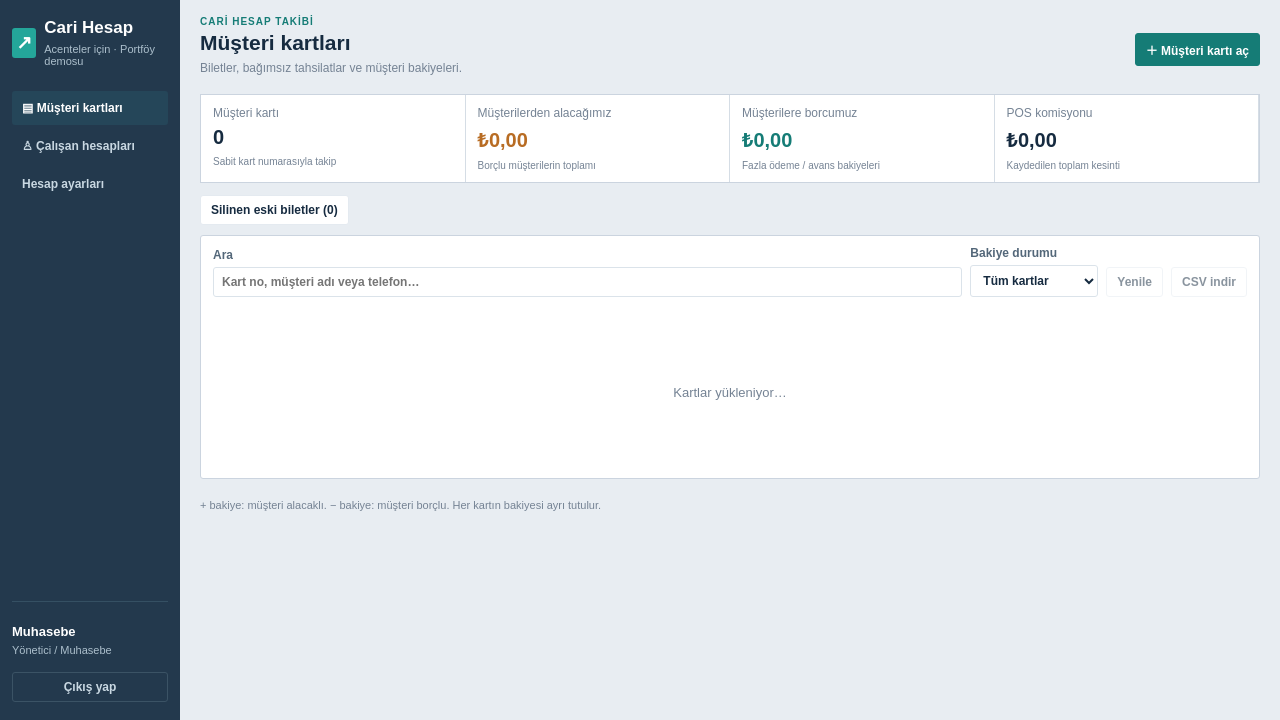
it: account settings require matching passwords and return to login on success
The width and height of the screenshot is (1280, 720).
Click the button "Hesap ayarları" at [90, 184], box [12, 167, 168, 201]
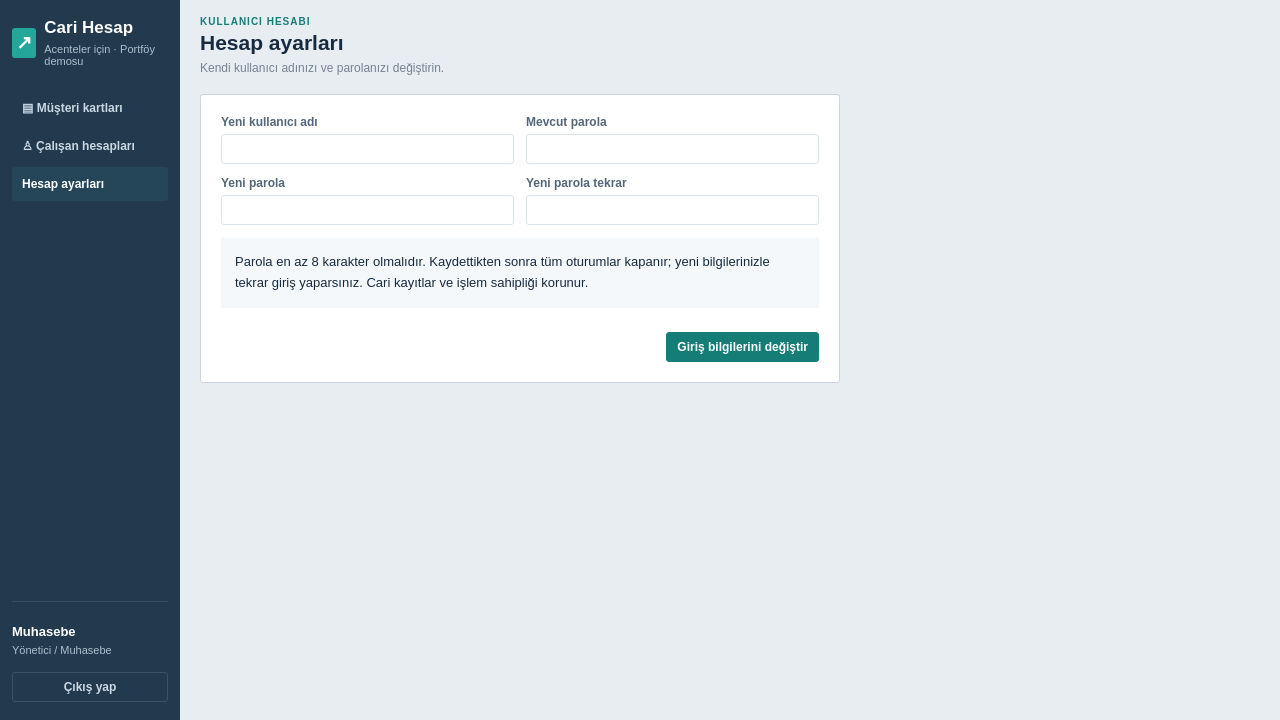
Type "admin" into the field labelled "Yeni kullanıcı adı" at [368, 149], box [221, 134, 514, 164]
Type "old-test-password" into the password field labelled "Mevcut parola" at [672, 149], box [526, 134, 819, 164]
Type "new-test-8" into the password field labelled "Yeni parola" at [368, 210], box [221, 195, 514, 225]
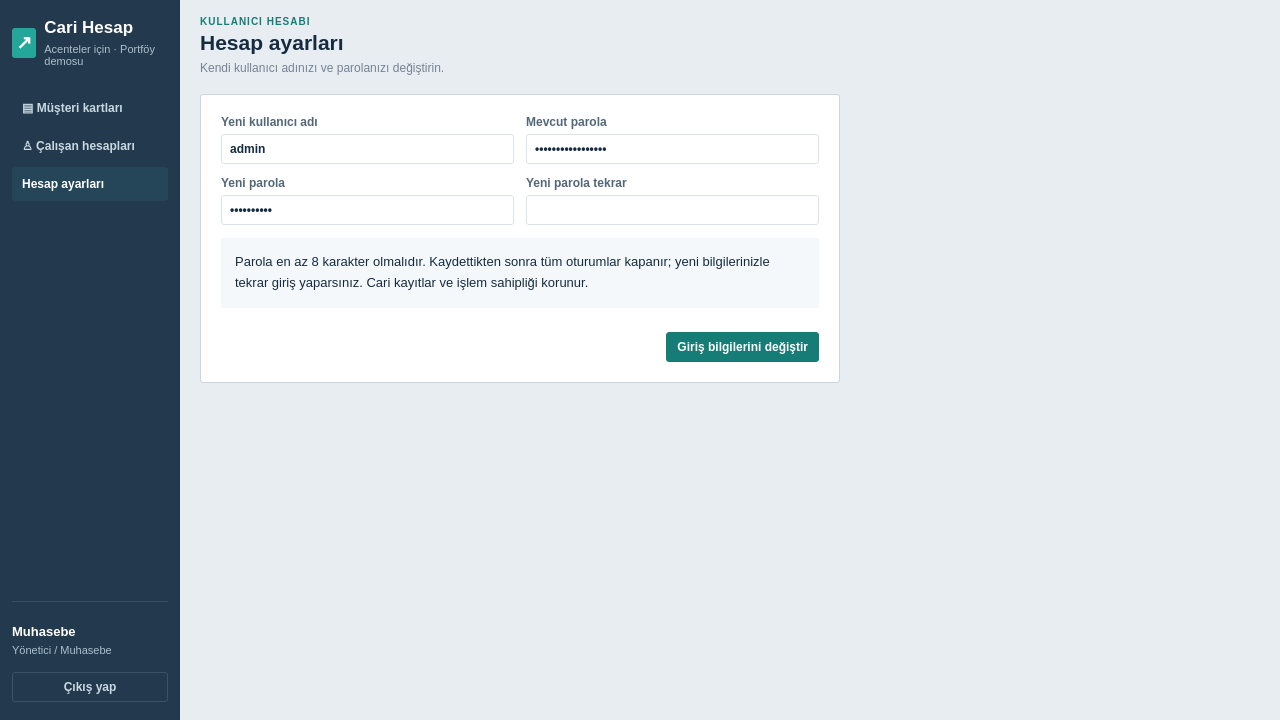
Type "different-8" into the password field labelled "Yeni parola tekrar" at [672, 210], box [526, 195, 819, 225]
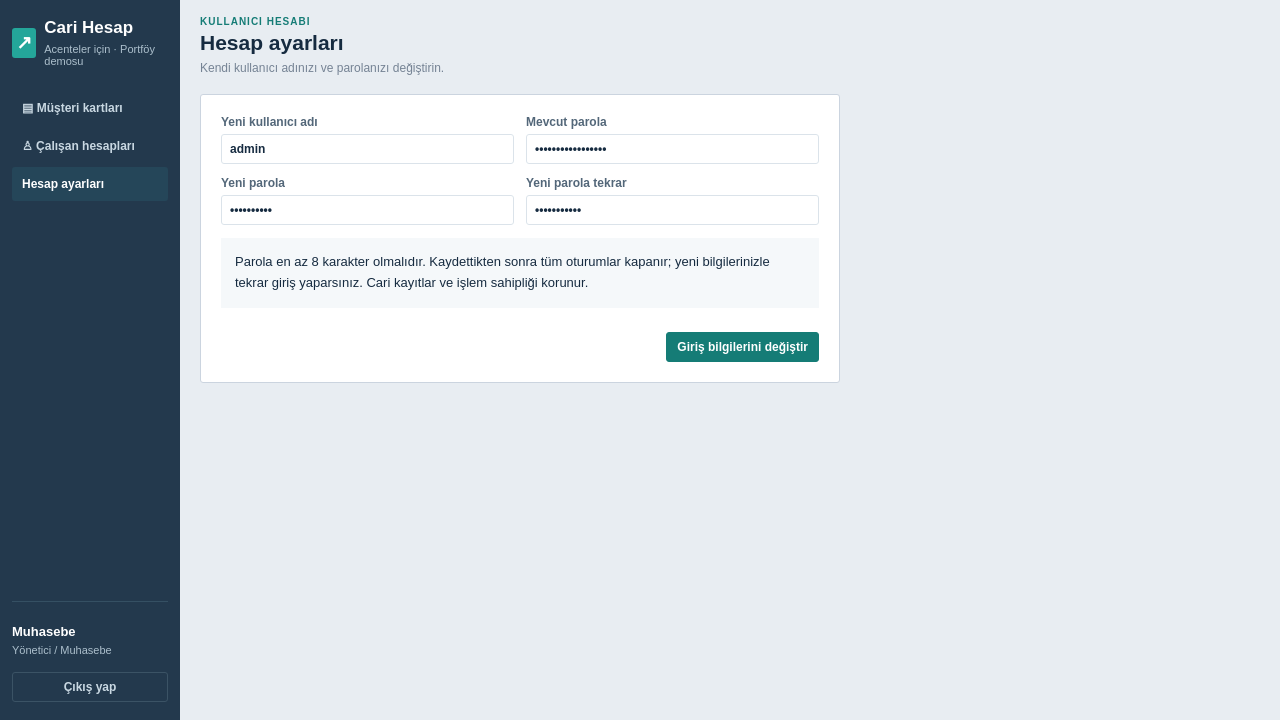
Click the button "Giriş bilgilerini değiştir" at [743, 347], box [666, 332, 819, 362]
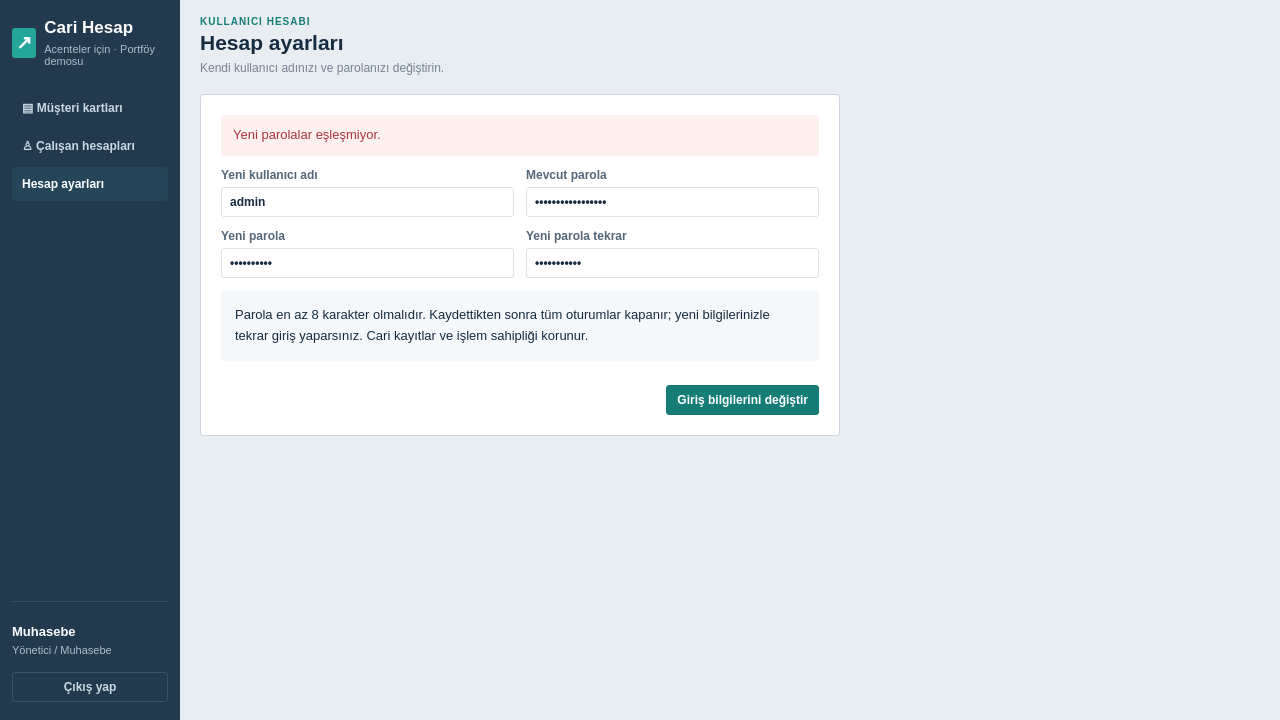
Expected: the message shows "eşleşmiyor", [233, 127, 381, 142]
Type "new-test-8" into the password field labelled "Yeni parola tekrar" at [672, 263], box [526, 248, 819, 278]
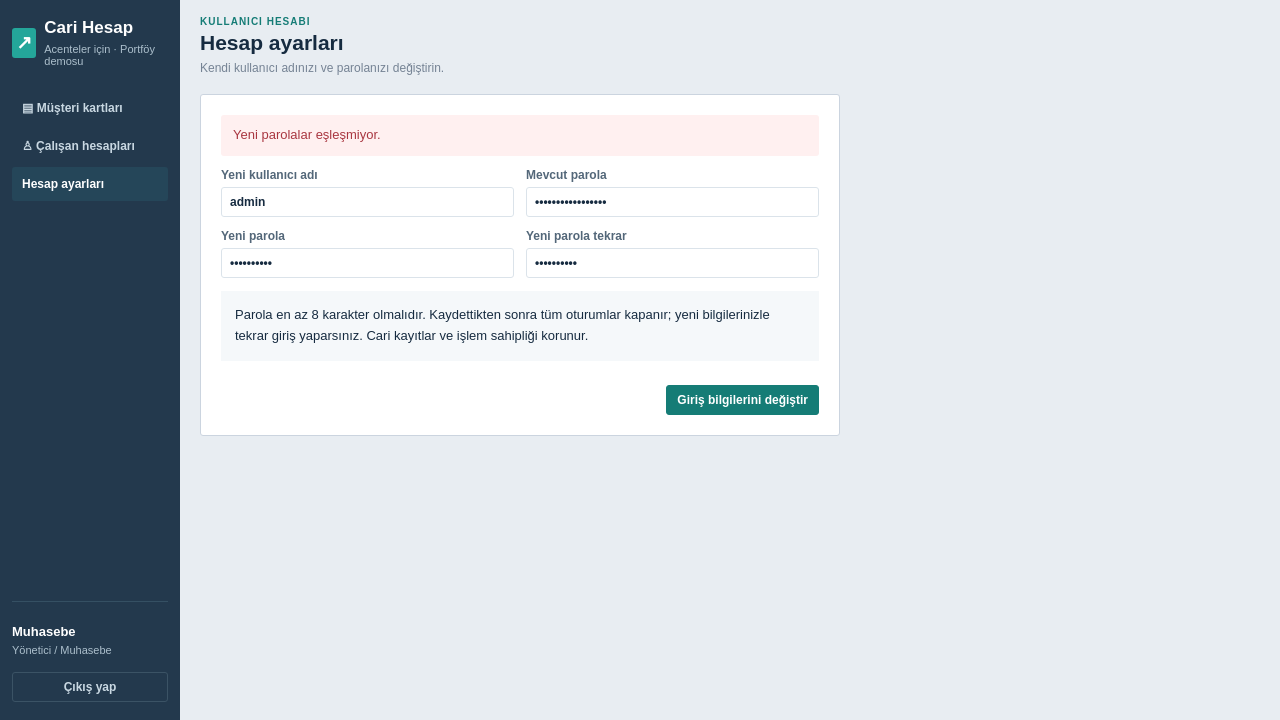
Click the button "Giriş bilgilerini değiştir" at [743, 400], box [666, 385, 819, 415]
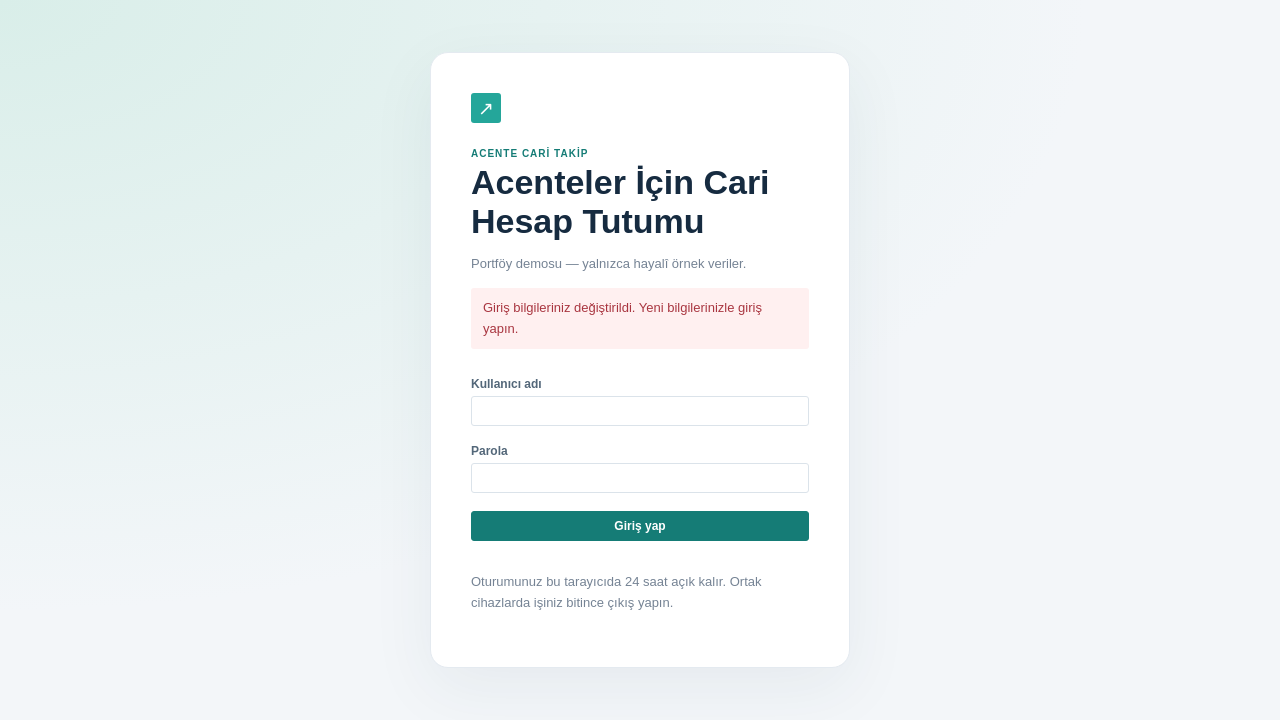
Expected: the password field labelled "Parola" is empty, [471, 463, 809, 493]
Expected: the button "Giriş yap" is shown, [471, 511, 809, 541]
